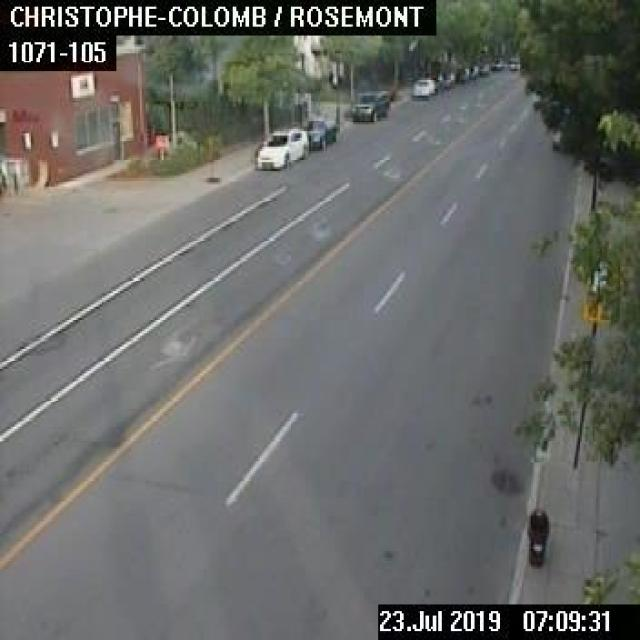vehicle: (256, 126, 307, 168), (350, 89, 388, 121), (304, 117, 335, 148), (412, 76, 433, 94), (437, 70, 453, 90), (506, 55, 518, 69), (456, 67, 468, 81), (490, 56, 502, 69), (477, 61, 488, 75), (466, 64, 476, 77)
